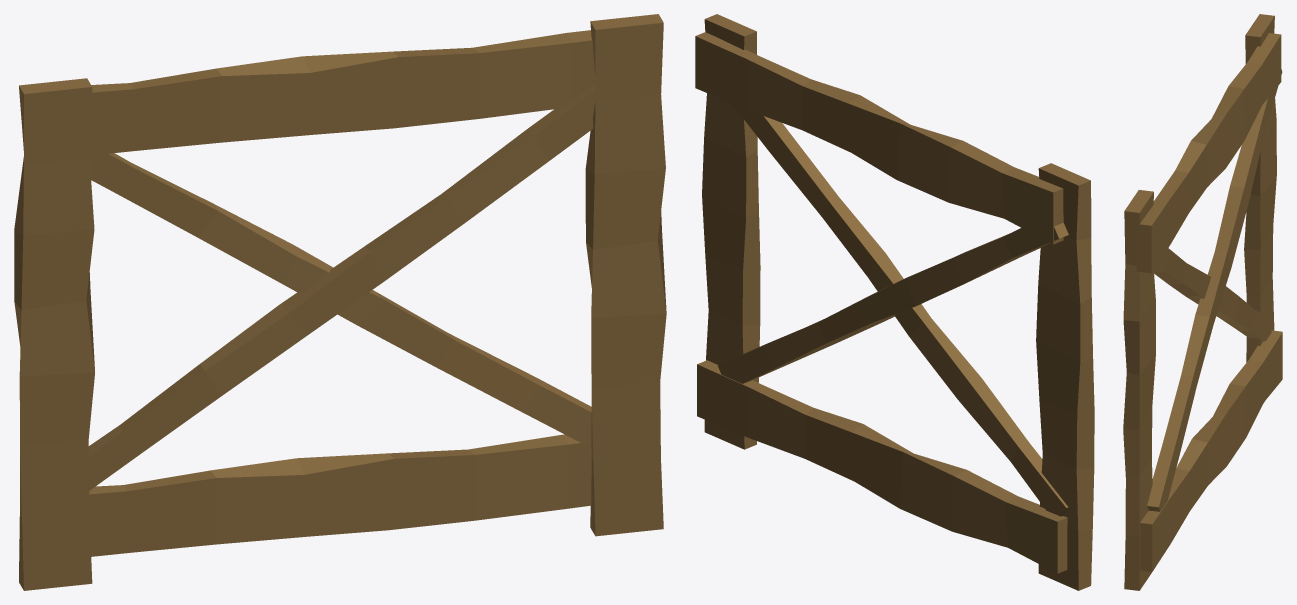
Rendered from FenceGate.fbx.
3 views of the same model, side by side, from view 1: azimuth 30°, elevation 25°; view 2: azimuth 150°, elevation 25°; view 3: azimuth 270°, elevation 25° (orthographic). The views are drawn at different scales.
Parts seen in each view (by area): view 1: Cube.113; view 2: Cube.113; view 3: Cube.113.
Boxes of the visible parts, bbox=[...] form: Cube.113: bbox=[14, 14, 666, 590]; Cube.113: bbox=[695, 14, 1094, 590]; Cube.113: bbox=[1123, 14, 1282, 590].
Bounding box in the file's own units: 147 × 127 × 48.58.
